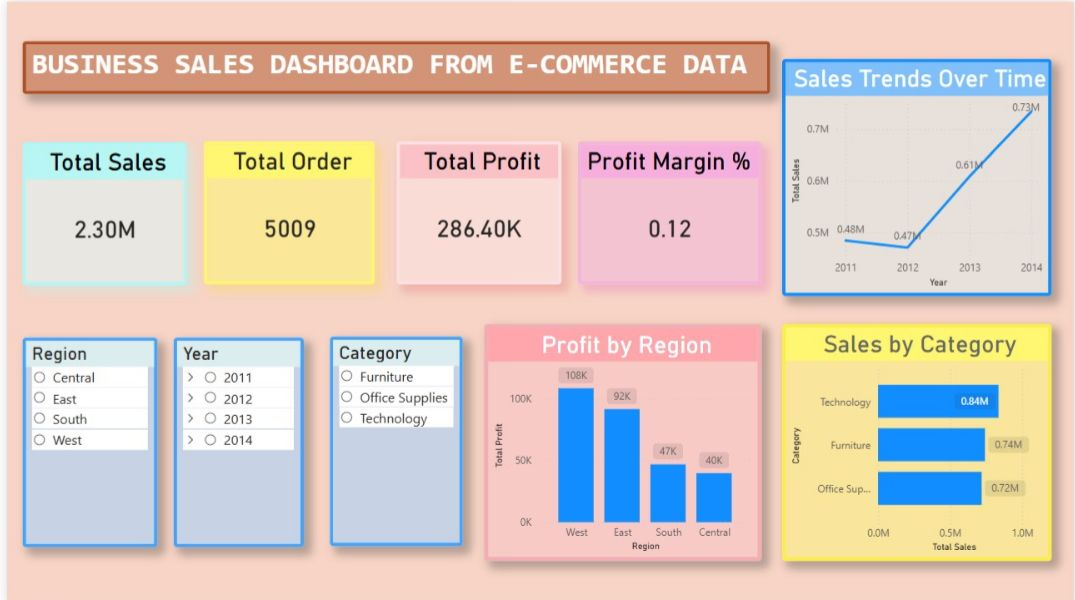

What the dashboard file says about the page in this screenshot:
{"tool":"powerbi","page":{"name":"Page 1","canvas":[1280,720],"ordinal":0},"visuals":[{"type":"card","title":"Total Sales","fields":{"Values":["Orders.Total Sales"]},"box":[18.6,168.6,197.1,171.4],"z":0},{"type":"card","title":"Total Profit","fields":{"Values":["Orders.Total Profit"]},"box":[467.5,167.5,197.5,171.2],"z":1000},{"type":"card","title":"Profit Margin %","fields":{"Values":["Orders.Profit Margin %"]},"box":[685,167.5,220,171.2],"z":2000},{"type":"card","title":"Total Order","fields":{"Values":["Orders.Total Order"]},"box":[236.2,167.5,205,171.2],"z":3000},{"type":"lineChart","title":"Sales Trends Over Time","fields":{"Category":["Orders (2).Order Date.Variation.Date Hierarchy.Year"],"Y":["Orders.Total Sales"]},"box":[930,68.6,322.9,284.3],"z":4000},{"type":"barChart","title":"Sales by Category","fields":{"Category":["Orders (2).Category"],"Y":["Orders.Total Sales"]},"box":[930,385.7,322.9,284.3],"z":5000},{"type":"clusteredColumnChart","title":"Profit by Region","fields":{"Category":["Orders (2).Region"],"Y":["Orders.Total Profit"]},"box":[572.9,385.7,332.9,284.3],"z":6000},{"type":"listSlicer","fields":{"Values":["Orders (2).Order Date.Variation.Date Hierarchy.Year","Orders (2).Order Date.Variation.Date Hierarchy.Quarter","Orders (2).Order Date.Variation.Date Hierarchy.Month","Orders (2).Order Date.Variation.Date Hierarchy.Day"]},"box":[200,402.9,155.7,251.4],"z":7000},{"type":"listSlicer","fields":{"Values":["Orders (2).Category"]},"box":[387.7,401.2,159.5,251.5],"z":8000},{"type":"listSlicer","fields":{"Values":["Orders (2).Region"]},"box":[18.6,402.9,161.4,251.4],"z":9000},{"type":"textbox","title":"BUSINESS SALES DASHBOARD FROM E-COMMERCE DATA","box":[18.6,47.1,897.1,62.9],"z":10000}]}

Visuals, with their boxes in screenshot pixels (x1, y1, x2, y2), scaled from the page's 1280x720 canvas onto the 1075x600 screenshot:
"Total Sales" card: [left=16, top=140, right=181, bottom=283]
"Total Profit" card: [left=393, top=140, right=558, bottom=282]
"Profit Margin %" card: [left=575, top=140, right=760, bottom=282]
"Total Order" card: [left=198, top=140, right=371, bottom=282]
"Sales Trends Over Time" lineChart: [left=781, top=57, right=1052, bottom=294]
"Sales by Category" barChart: [left=781, top=321, right=1052, bottom=558]
"Profit by Region" clusteredColumnChart: [left=481, top=321, right=761, bottom=558]
listSlicer - Orders (2).Order Date.Variation.Date Hierarchy.Year x Orders (2).Order Date.Variation.Date Hierarchy.Quarter: [left=168, top=336, right=299, bottom=545]
listSlicer - Orders (2).Category: [left=326, top=334, right=460, bottom=544]
listSlicer - Orders (2).Region: [left=16, top=336, right=151, bottom=545]
"BUSINESS SALES DASHBOARD FROM E-COMMERCE DATA" textbox: [left=16, top=39, right=769, bottom=92]
